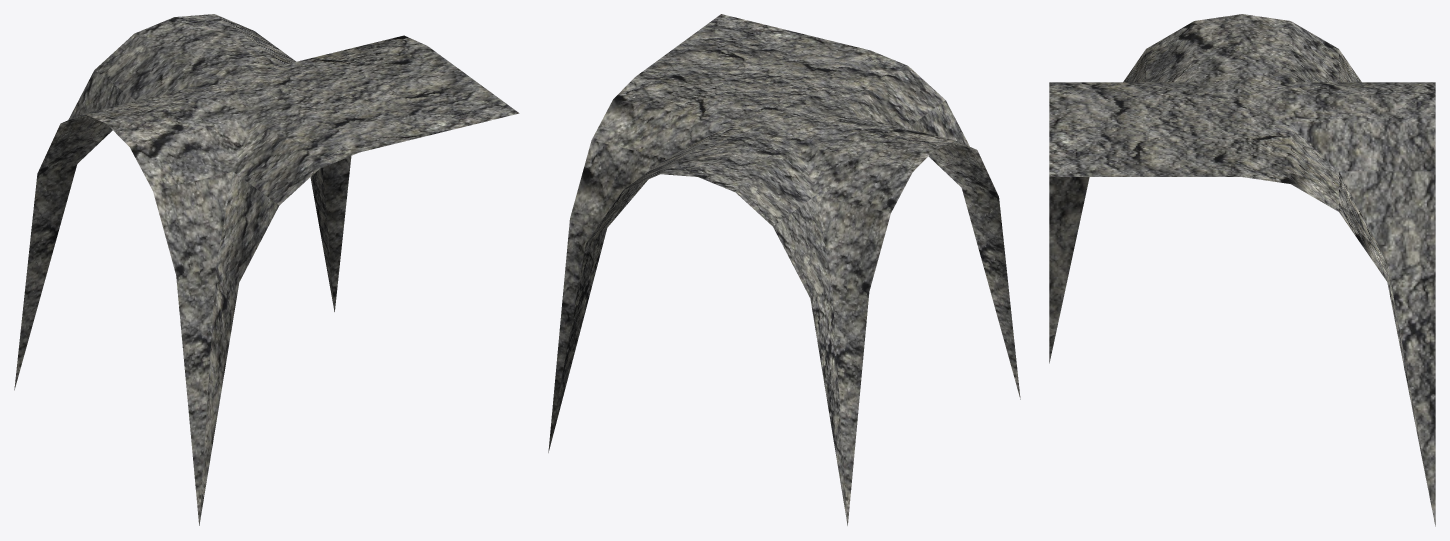
Rendered from Stone4b.obj.
The picture shows the model from 3 angles, left to right: view 1: azimuth 30°, elevation 25°; view 2: azimuth 150°, elevation 25°; view 3: azimuth 270°, elevation 25°; orthographic projection. The views are drawn at different scales.
Visible parts, largest first — view 1: Grid_Grid.016_Grid_Grid.036; view 2: Grid_Grid.016_Grid_Grid.036; view 3: Grid_Grid.016_Grid_Grid.036.
Boxes of the visible parts, x1,y1,x2,y2 form: Grid_Grid.016_Grid_Grid.036: (14,14,519,525); Grid_Grid.016_Grid_Grid.036: (548,14,1020,525); Grid_Grid.016_Grid_Grid.036: (1049,14,1435,526).
Size of the model in its own units: 1 by 1 by 1.
